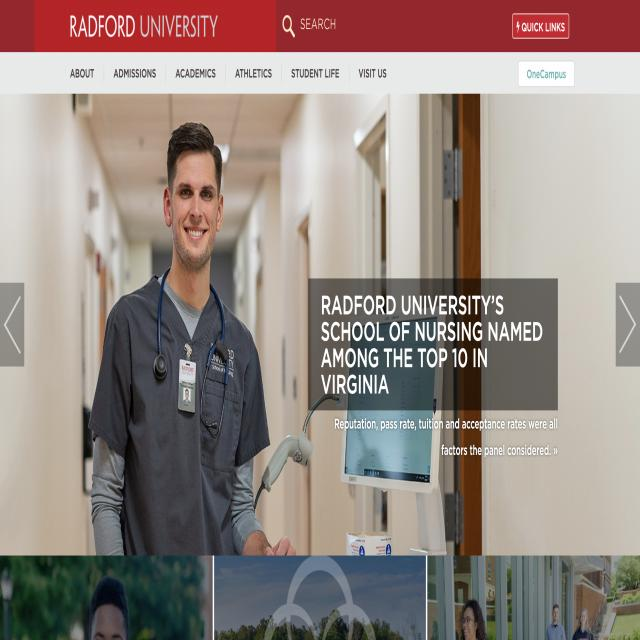Logo: (68, 3, 220, 46)
Navigation: (61, 53, 430, 94)
